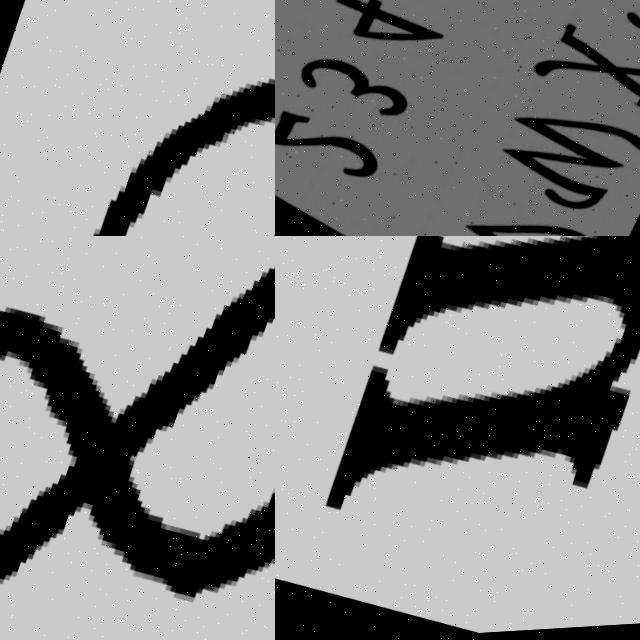2: (275, 80, 422, 223)
3: (283, 33, 437, 152)
4: (305, 0, 468, 94)
5: (37, 0, 275, 236), (331, 0, 505, 38)
8: (0, 236, 275, 640)
M: (320, 236, 640, 595)
